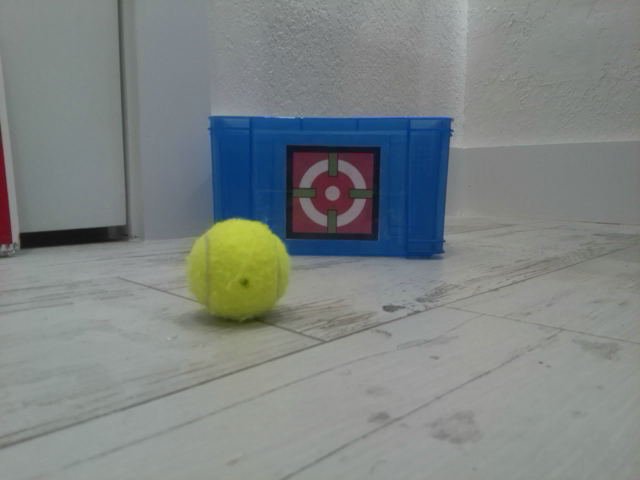drop-bin: (285, 144, 381, 242)
yellow-ball: (185, 217, 291, 322)
